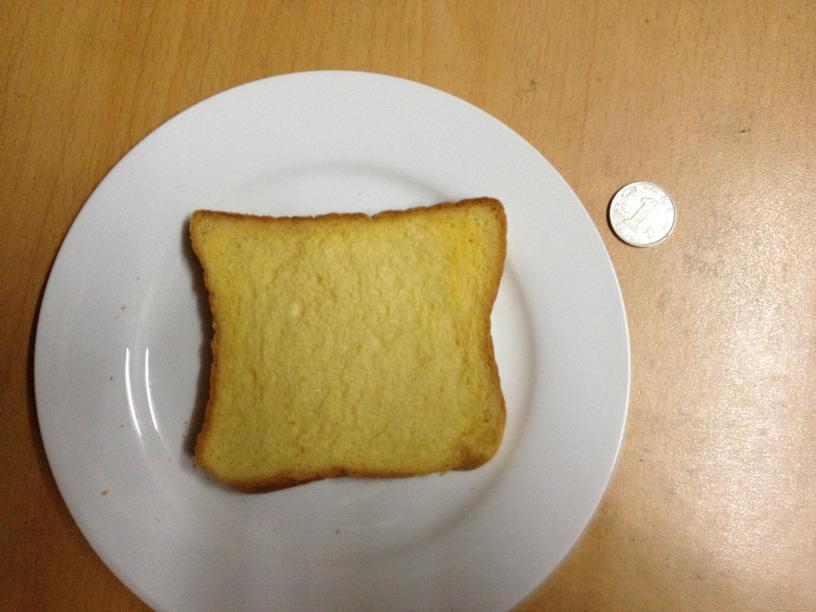bread: (178, 191, 514, 494)
coin: (608, 182, 675, 247)
